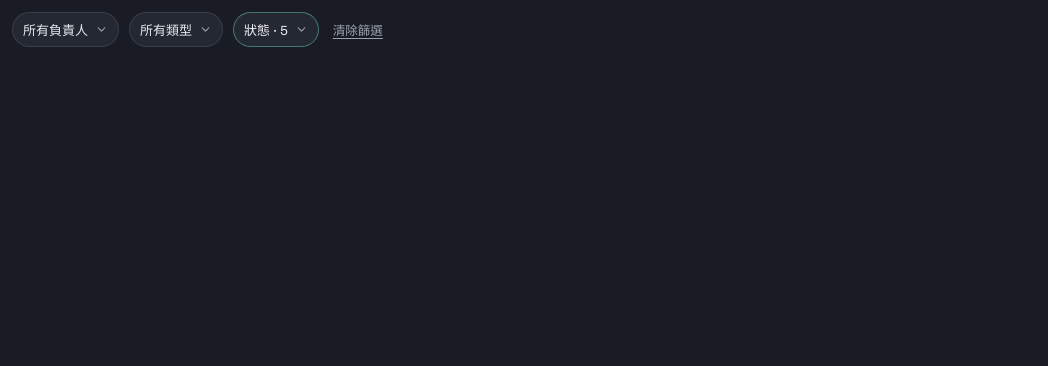
Test: TaskCard 轉派 entry + dialog › hides the 轉派 icon on a terminal task (the server 409s a reassign)
Click the button with test id "filter-status" at (276, 30), box [233,12,319,47]
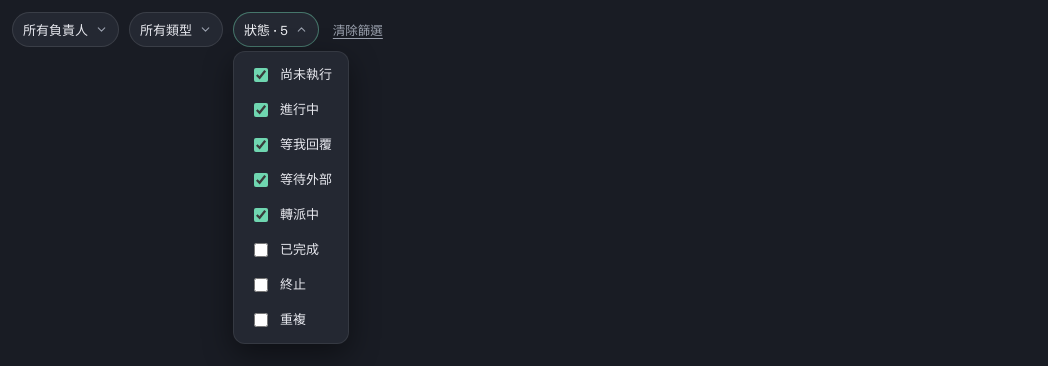
Click the checkbox labelled "終止" at (261, 285), box [254,278,268,292]
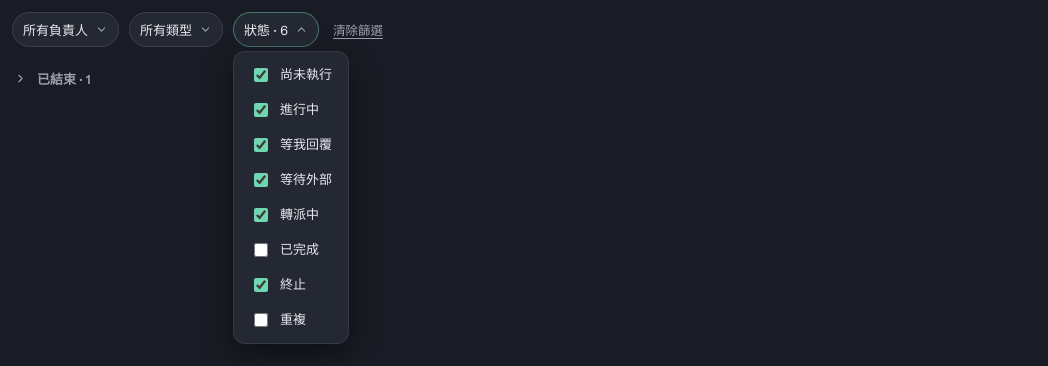
Click the button with test id "closed-toggle" at (64, 79), box [12,69,1036,100]
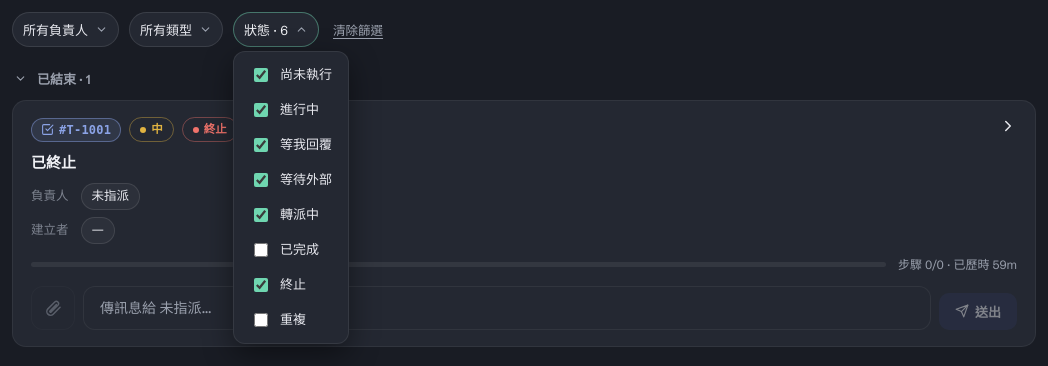
expect the button with test id "task-status" is shown: met, box [182,117,238,142]
